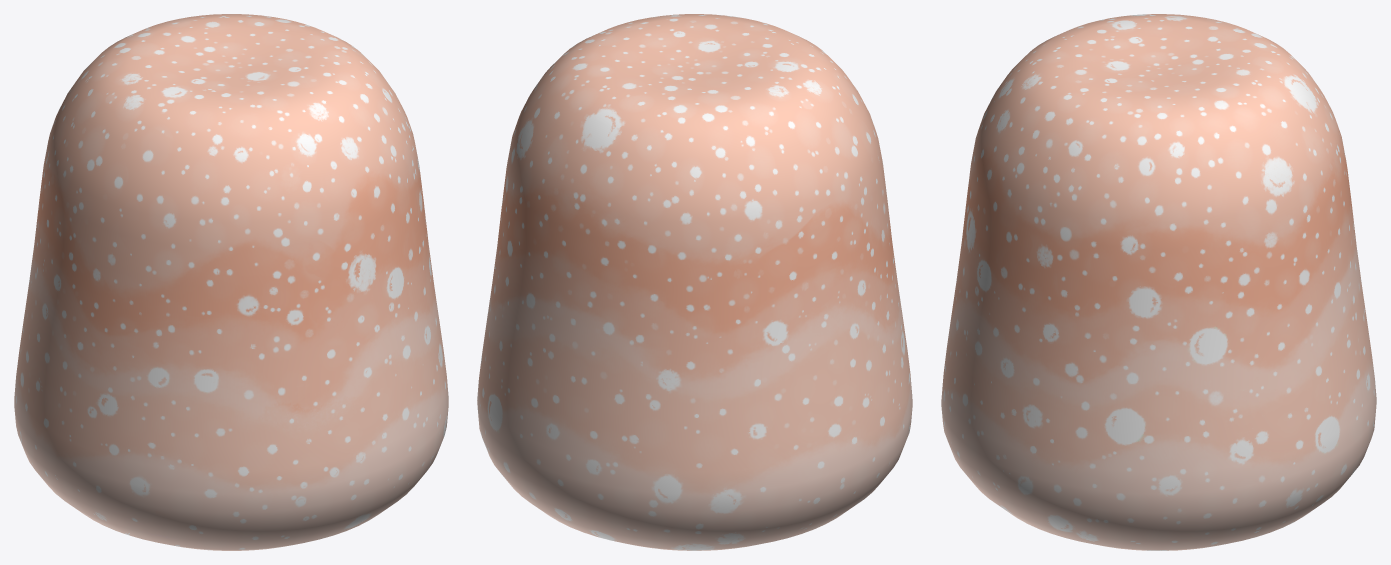
Rendered from orangeGum.glb.
3 renders of one model, left to right at view 1: azimuth 30°, elevation 25°; view 2: azimuth 150°, elevation 25°; view 3: azimuth 270°, elevation 25°, orthographic.
Parts seen in each view (by area): view 1: gumdroporange; view 2: gumdroporange; view 3: gumdroporange.
Boxes of the visible parts, x1,y1,x2,y2 form: gumdroporange: (14,14,448,550); gumdroporange: (477,14,912,550); gumdroporange: (941,14,1376,550).
Size of the model in its own units: 0.6912 by 0.7596 by 0.6919.
1 material, 1 textured.
